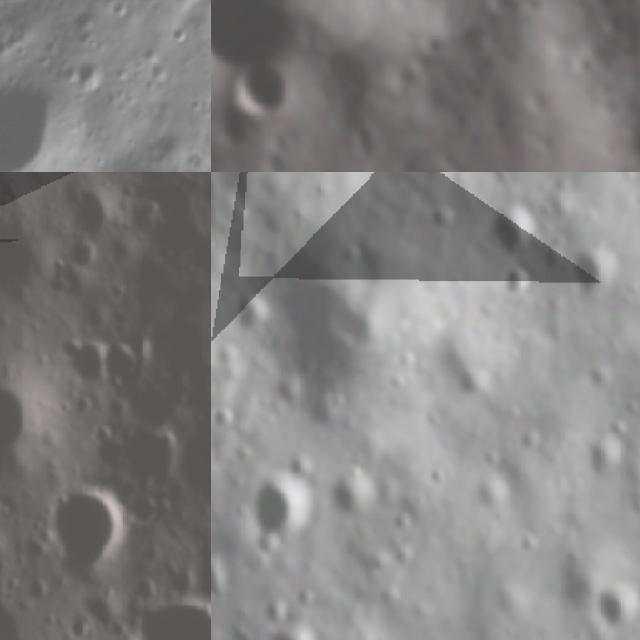crater: (211, 0, 332, 94), (40, 482, 136, 583), (218, 58, 308, 128), (242, 468, 320, 548), (0, 371, 45, 480), (566, 236, 632, 310), (124, 585, 211, 640), (482, 196, 554, 262), (57, 326, 116, 400), (171, 414, 211, 510), (574, 428, 630, 487), (591, 573, 640, 640), (70, 181, 124, 241), (329, 468, 383, 527), (97, 330, 148, 392), (222, 285, 276, 340), (454, 352, 499, 404), (59, 229, 103, 274), (496, 254, 536, 302), (211, 550, 242, 610), (68, 62, 113, 102), (256, 618, 327, 640), (417, 31, 452, 66), (169, 21, 203, 55), (388, 61, 422, 95), (345, 120, 377, 154), (624, 109, 640, 172), (180, 94, 207, 123), (420, 163, 463, 172)
